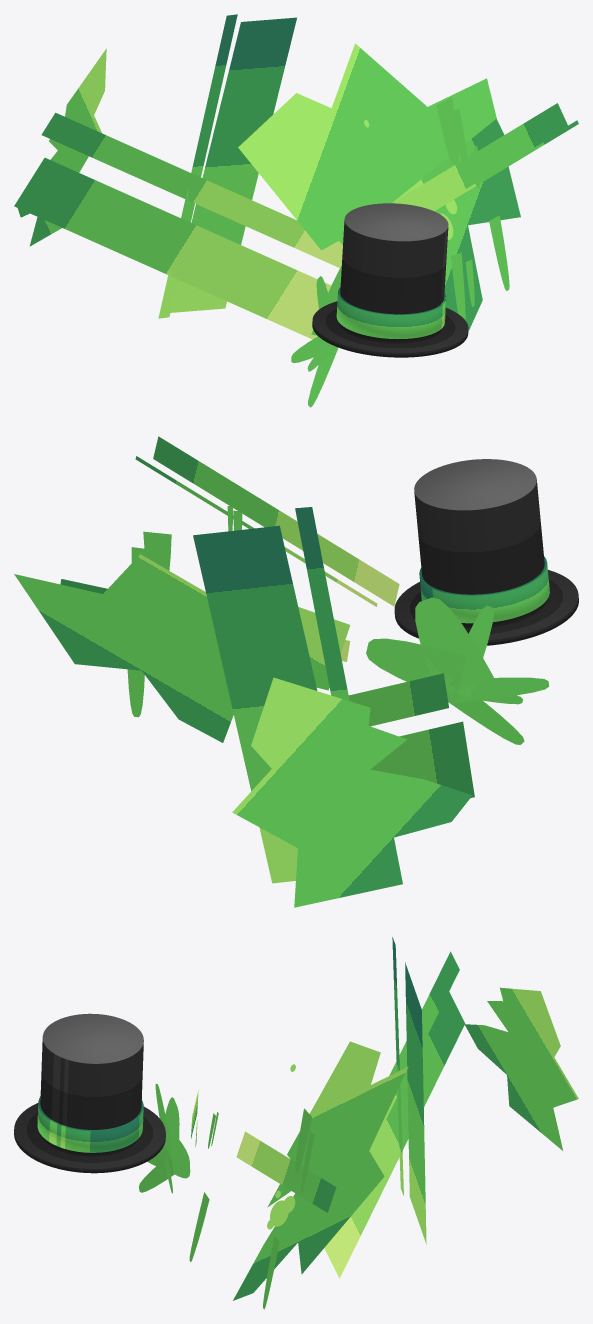
The model's file is hero.glb.
3 renders of one model, top to bottom at view 1: azimuth 30°, elevation 25°; view 2: azimuth 150°, elevation 25°; view 3: azimuth 270°, elevation 25°, orthographic. The views are drawn at different scales.
Parts seen in each view (by area): view 1: Baked Potato.001; view 2: Baked Potato.001; view 3: Baked Potato.001.
Boxes of the visible parts, box(x1,y1,x2,y2) form: Baked Potato.001: box(14, 14, 578, 407); Baked Potato.001: box(14, 436, 578, 907); Baked Potato.001: box(14, 937, 578, 1309).
Bounding box in the file's own units: 3.08 × 2.19 × 3.59.
Materials: 1 (1 with a texture image).
